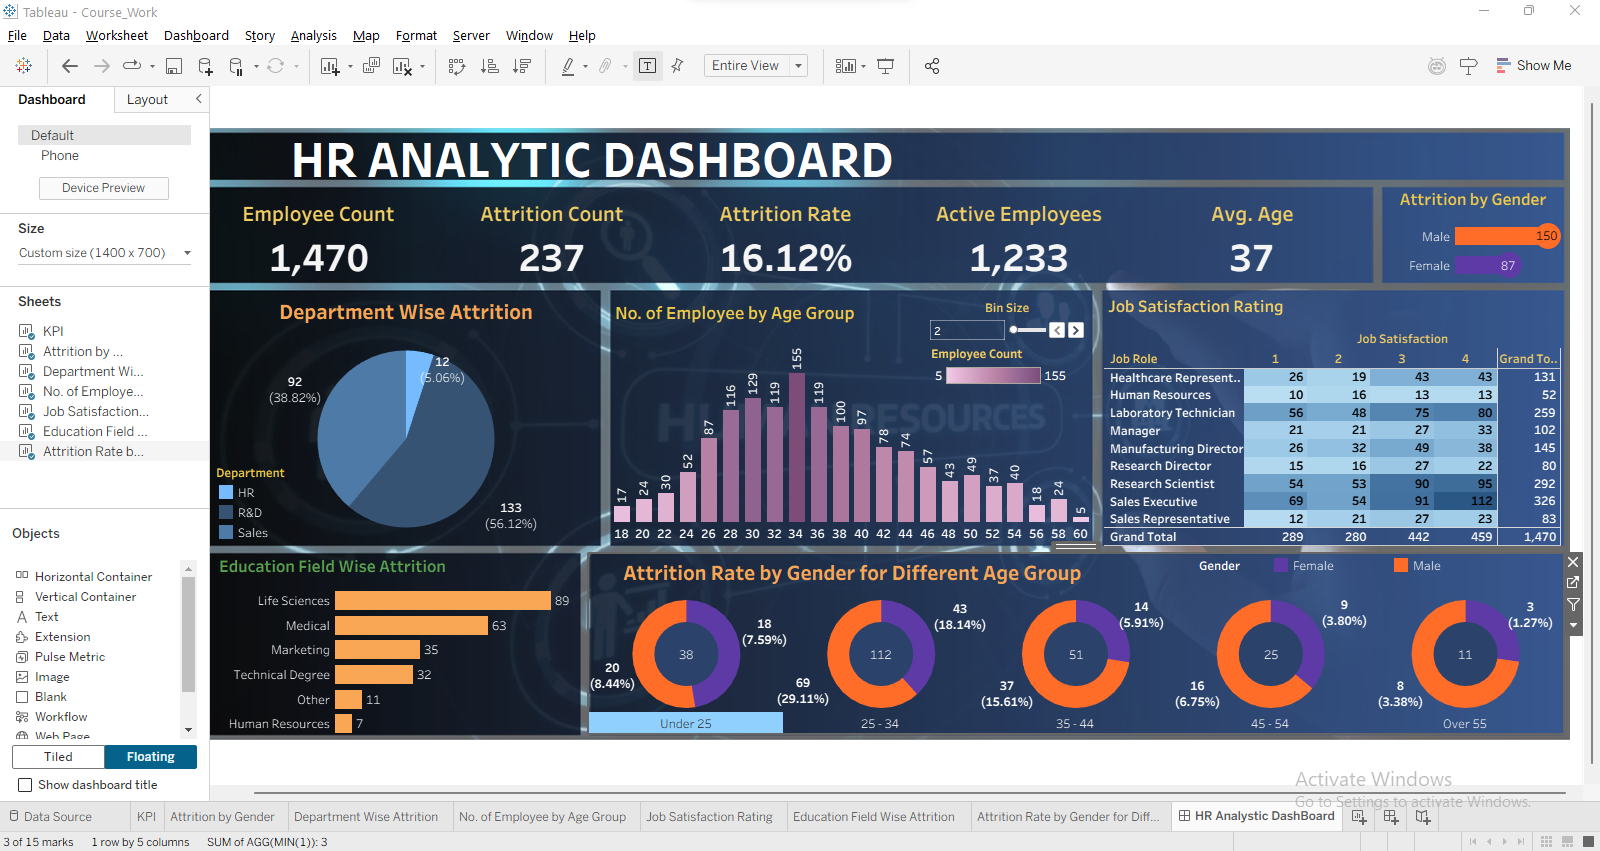

This screenshot's page, from the dashboard's own definition file:
{"tool":"tableau","page":{"name":"HR Analystic DashBoard","canvas":[1400,700],"ordinal":0},"visuals":[{"type":"image","param":"D:/Tableau/Course_Work/HR background.pptx.png","box":[8,8,1384,684]},{"type":"text","box":[106,42,923,59]},{"type":"worksheet","title":"Attrition by Gender","mark":"Automatic","rows":["Gender"],"cols":["Calculation_0724353384824832","Calculation_0724353384824832"],"box":[1193,98,191,96]},{"type":"worksheet","title":"KPI","mark":"Automatic","box":[20,101,1167,97]},{"type":"worksheet","title":"Job Satisfaction Rating","mark":"Square","rows":["Job Role"],"cols":["Job Satisfaction"],"box":[922,205,457,255]},{"type":"worksheet","title":"Department Wise Attrition","mark":"Pie","box":[32,207,384,250]},{"type":"worksheet","title":"No. of Employee by Age Group","mark":"Automatic","rows":["Employee Count"],"cols":["Age (bin)"],"box":[429,210,481,247]},{"type":"parameter","param":"[Parameters].[Parameter 1]","box":[745,213,160,49]},{"type":"legend","title":"No. of Employee by Age Group","param":"[federated.0lrr2tm16gr3om10n7yiq1w197o5].[sum:Employee Count:qk]","box":[749,259,140,42]},{"type":"legend","title":"Department Wise Attrition","param":"[federated.0lrr2tm16gr3om10n7yiq1w197o5].[none:Department:nk]","box":[34,378,121,78]},{"type":"worksheet","title":"Education Field Wise Attrition","mark":"Automatic","rows":["Education Field"],"cols":["Calculation_0724353384824832"],"box":[33,465,370,185]},{"type":"worksheet","title":"Attrition Rate by Gender for Different Age Group","mark":"Pie","rows":["Calculation_0724354888626181","Calculation_0724354888626181"],"cols":["CF_age band"],"box":[407,468,974,179]},{"type":"legend","title":"Attrition Rate by Gender for Different Age Group","param":"[federated.0lrr2tm16gr3om10n7yiq1w197o5].[none:Gender:nk]","box":[1017,469,361,28]}]}

Visuals, with their boxes on the page's 1400x700 design canvas (x1, y1, x2, y2). These are canvas units, not pixel positions in the 1600x851 screenshot, which may show the page scaled, cropped or inside an application window:
image: BBox(8, 8, 1392, 692)
text: BBox(106, 42, 1029, 101)
"Attrition by Gender" worksheet: BBox(1193, 98, 1384, 194)
"KPI" worksheet: BBox(20, 101, 1187, 198)
"Job Satisfaction Rating" worksheet (Square marks): BBox(922, 205, 1379, 460)
"Department Wise Attrition" worksheet (Pie marks): BBox(32, 207, 416, 457)
"No. of Employee by Age Group" worksheet: BBox(429, 210, 910, 457)
parameter: BBox(745, 213, 905, 262)
"No. of Employee by Age Group" legend: BBox(749, 259, 889, 301)
"Department Wise Attrition" legend: BBox(34, 378, 155, 456)
"Education Field Wise Attrition" worksheet: BBox(33, 465, 403, 650)
"Attrition Rate by Gender for Different Age Group" worksheet (Pie marks): BBox(407, 468, 1381, 647)
"Attrition Rate by Gender for Different Age Group" legend: BBox(1017, 469, 1378, 497)
